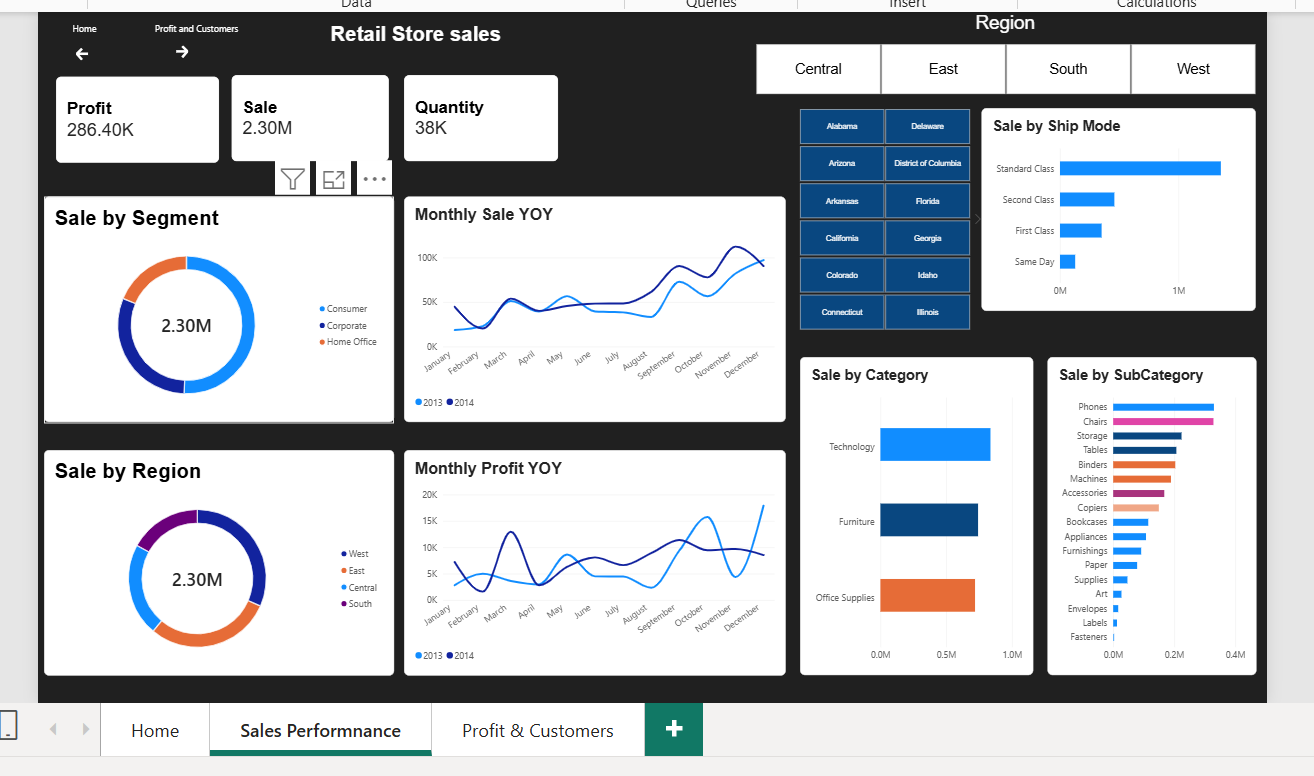

Layout of this report page (visuals, bound fields, positions):
{"tool":"powerbi","page":{"name":"Sales Performnance","canvas":[1920,1080],"ordinal":1},"visuals":[{"type":"textbox","box":[457.1,16.6,466.6,63.9],"z":0},{"type":"slicer","title":"Region","fields":{"Values":["cleaned_sales_data.Region"]},"box":[1101.3,0,819.5,130.3],"z":1000},{"type":"cardVisual","fields":{"Data":["cleaned_sales_data.Total Profit"]},"box":[28.4,101.8,255.8,135],"z":2000},{"type":"cardVisual","fields":{"Data":["cleaned_sales_data.Total Sale"]},"box":[303.2,99.5,246.3,135],"z":3000},{"type":"cardVisual","fields":{"Data":["Sum(cleaned_sales_data.Quantity)"]},"box":[573.2,99.5,241.6,135],"z":4000},{"type":"donutChart","title":"Sale by Segment","fields":{"Category":["cleaned_sales_data.Segment"],"Y":["cleaned_sales_data.Total Sale"]},"box":[9.5,289,547.1,352.9],"z":5000},{"type":"lineChart","title":"Monthly Sale YOY","fields":{"Category":["cleaned_sales_data.Order Date.Variation.Date Hierarchy.Month"],"Series":["cleaned_sales_data.Order Date.Variation.Date Hierarchy.Year"],"Y":["cleaned_sales_data.Total Sale"]},"box":[573.2,289,596.8,352.9],"z":6000},{"type":"lineChart","title":"Monthly Profit YOY","fields":{"Category":["cleaned_sales_data.Order Date.Variation.Date Hierarchy.Month"],"Series":["cleaned_sales_data.Order Date.Variation.Date Hierarchy.Year"],"Y":["cleaned_sales_data.Total Profit"]},"box":[573.2,684.5,596.8,352.9],"z":7000},{"type":"slicer","fields":{"Values":["cleaned_sales_data.State"]},"box":[1170,149.2,305.5,348.2],"z":8000},{"type":"clusteredBarChart","title":"Sale by Ship Mode","fields":{"Category":["cleaned_sales_data.Ship Mode"],"Y":["cleaned_sales_data.Total Sale"]},"box":[1475.5,149.2,428.7,317.4],"z":9000},{"type":"clusteredBarChart","title":"Sale by Category","fields":{"Category":["cleaned_sales_data.Category"],"Y":["cleaned_sales_data.Total Sale"]},"box":[1191.3,540,364.7,497.4],"z":10000},{"type":"clusteredBarChart","title":"Sale by SubCategory","fields":{"Category":["cleaned_sales_data.Sub-Category"],"Y":["cleaned_sales_data.Total Sale"]},"box":[1577.4,540,326.8,497.4],"z":11000},{"type":"donutChart","title":"Sale by Region","fields":{"Category":["cleaned_sales_data.Region"],"Y":["cleaned_sales_data.Total Sale"]},"box":[9.5,684.5,547.1,352.9],"z":12000},{"type":"actionButton","box":[28.4,49.7,82.9,33.2],"z":13000},{"type":"actionButton","box":[163.4,42.6,120.8,40.3],"z":14000},{"type":"textbox","box":[54.5,16.6,40.3,33.2],"z":15000},{"type":"textbox","box":[182.4,16.6,146.8,42.6],"z":16000}]}

Visuals, with their boxes in screenshot pixels (x1, y1, x2, y2):
textbox: <bbox>322, 14, 625, 56</bbox>
"Region" slicer: <bbox>741, 3, 1274, 88</bbox>
cardVisual - cleaned_sales_data.Total Profit: <bbox>42, 70, 209, 158</bbox>
cardVisual - cleaned_sales_data.Total Sale: <bbox>221, 68, 382, 156</bbox>
cardVisual - Sum(cleaned_sales_data.Quantity): <bbox>397, 68, 554, 156</bbox>
"Sale by Segment" donutChart: <bbox>30, 192, 386, 421</bbox>
"Monthly Sale YOY" lineChart: <bbox>397, 192, 786, 421</bbox>
"Monthly Profit YOY" lineChart: <bbox>397, 449, 786, 679</bbox>
slicer - cleaned_sales_data.State: <bbox>786, 101, 984, 327</bbox>
"Sale by Ship Mode" clusteredBarChart: <bbox>984, 101, 1264, 307</bbox>
"Sale by Category" clusteredBarChart: <bbox>799, 355, 1037, 679</bbox>
"Sale by SubCategory" clusteredBarChart: <bbox>1051, 355, 1264, 679</bbox>
"Sale by Region" donutChart: <bbox>30, 449, 386, 679</bbox>
actionButton: <bbox>42, 36, 96, 57</bbox>
actionButton: <bbox>130, 31, 209, 57</bbox>
textbox: <bbox>59, 14, 86, 36</bbox>
textbox: <bbox>143, 14, 238, 42</bbox>
